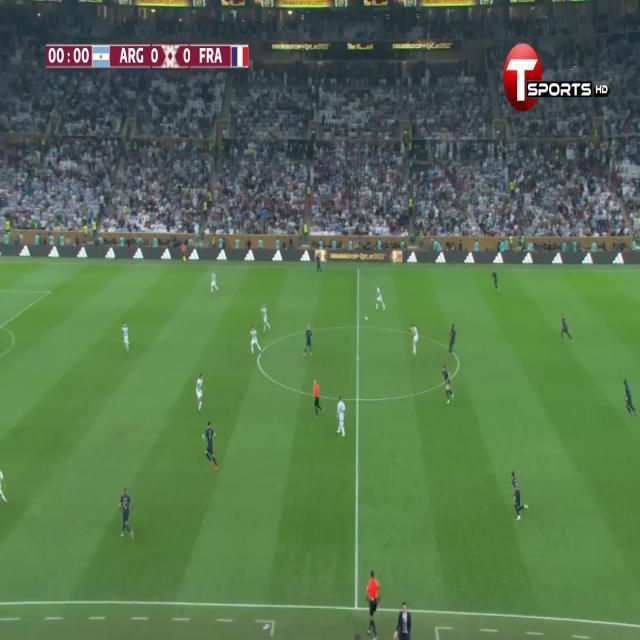player: (499, 445, 535, 545), (116, 475, 145, 552), (328, 364, 351, 449), (436, 356, 465, 418), (242, 313, 264, 368), (201, 420, 223, 473), (484, 261, 511, 303), (190, 370, 215, 415), (207, 258, 226, 311), (119, 315, 138, 365), (256, 305, 278, 348), (406, 317, 426, 362), (301, 309, 318, 360), (449, 313, 464, 370), (372, 276, 390, 319), (313, 250, 326, 279)
referee: (359, 561, 390, 640), (311, 369, 326, 427)
